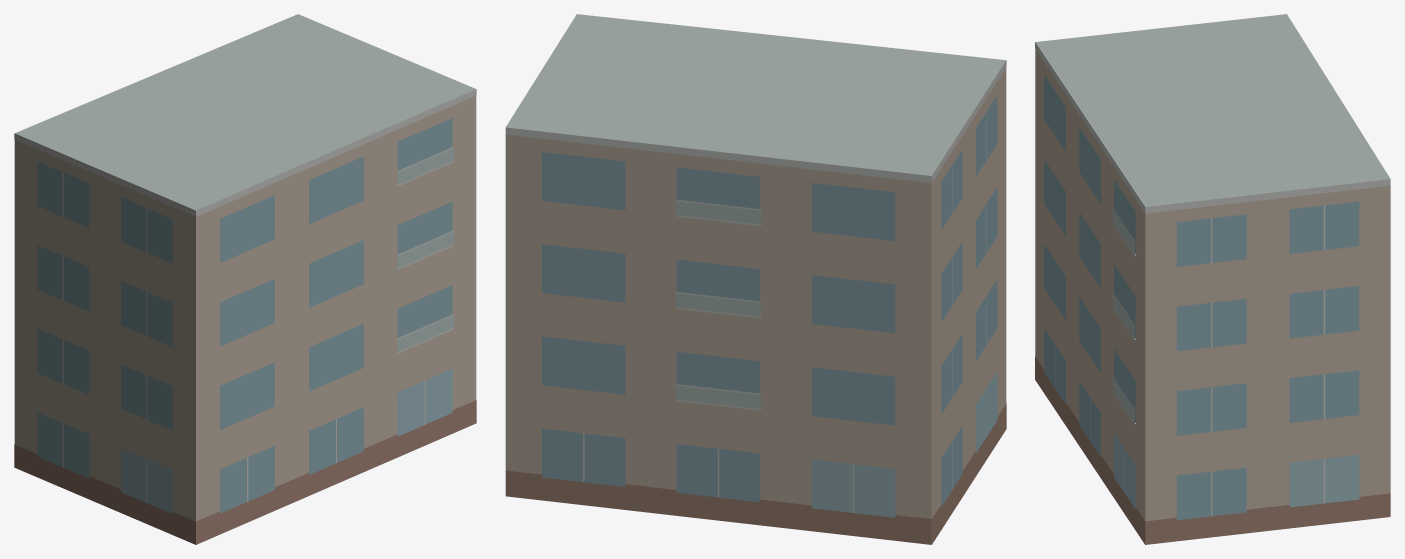
The model's file is survey-upis-32910242.glb.
3 views of the same model, side by side, from view 1: azimuth 30°, elevation 25°; view 2: azimuth 150°, elevation 25°; view 3: azimuth 270°, elevation 25° (orthographic). The views are drawn at different scales.
Visible parts, largest first — view 1: survey-upis-32910242.tmp; view 2: survey-upis-32910242.tmp; view 3: survey-upis-32910242.tmp.
Part boxes in pixels (bbox=[...]): survey-upis-32910242.tmp: bbox=[14, 14, 476, 544]; survey-upis-32910242.tmp: bbox=[505, 14, 1006, 544]; survey-upis-32910242.tmp: bbox=[1035, 14, 1390, 544].
Size of the model in its own units: 15.59 by 12.7 by 12.13.
